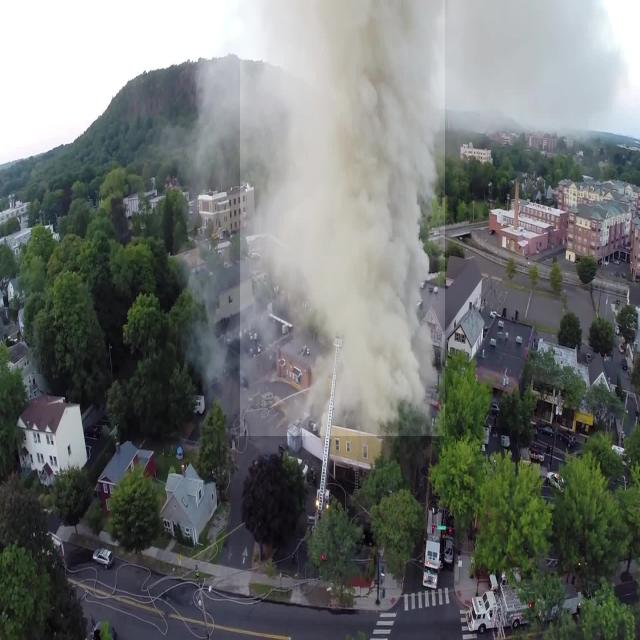Smoke: (240, 0, 445, 436)
